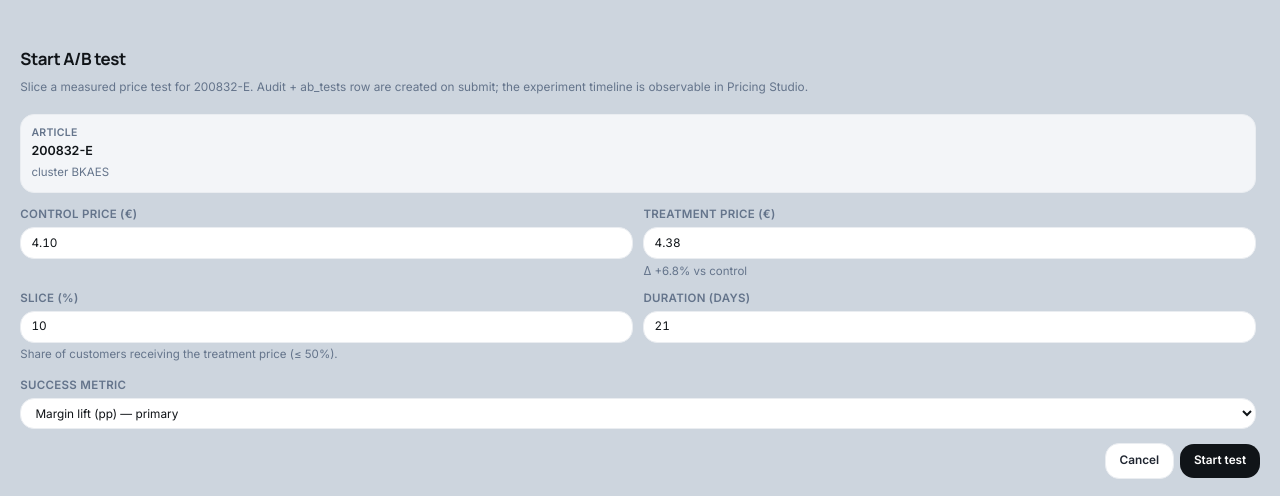
Test case: AbSetupForm › renders the audit-trail receipt on a successful start (Phase 7)
Click the button "Start test" at {"x": 1220, "y": 461}, box left=1180, top=444, right=1260, bottom=478
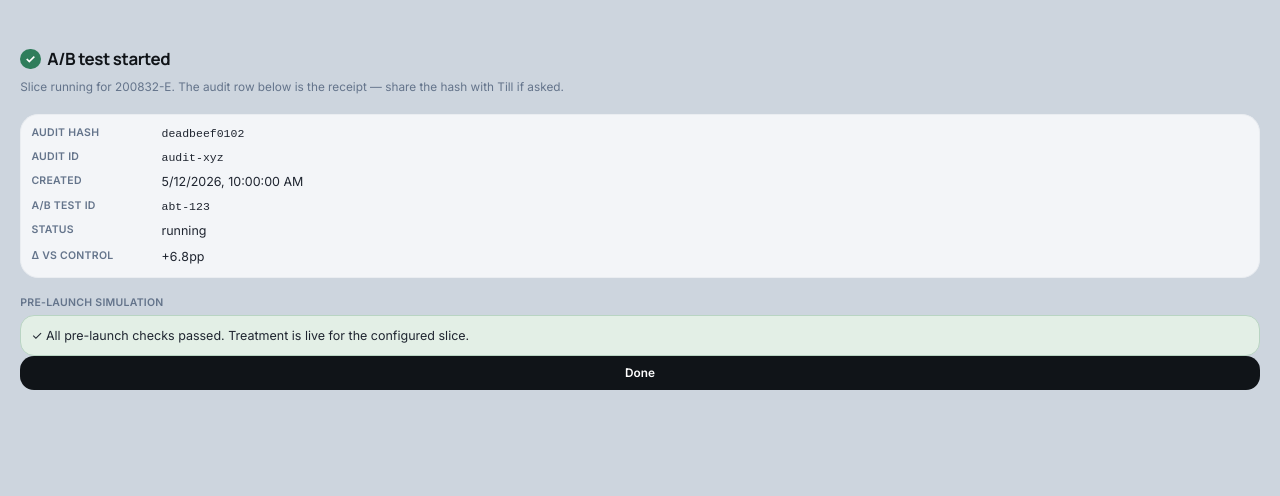
Result: the element with test id "ab-receipt" is shown
Result: the heading "A/B test started" is shown at left=47, top=47, right=170, bottom=71
Result: the text with test id "audit-hash" reads "deadbeef0102" at left=162, top=127, right=244, bottom=140
